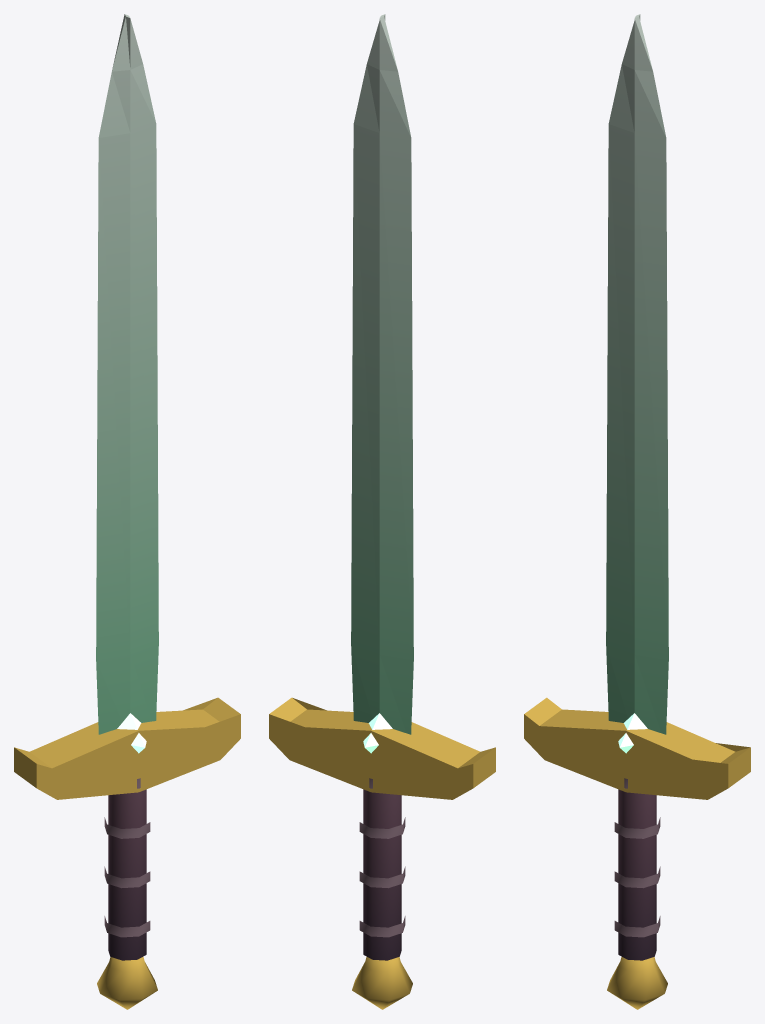
Rendered from sword_verdant.glb.
3 renders of one model, left to right at view 1: azimuth 30°, elevation 25°; view 2: azimuth 150°, elevation 25°; view 3: azimuth 330°, elevation 25°, orthographic.
Visible parts, largest first — view 1: sword_verdant; view 2: sword_verdant; view 3: sword_verdant.
Boxes of the visible parts, x1,y1,x2,y2 form: sword_verdant: (14,14,240,1009); sword_verdant: (269,14,495,1009); sword_verdant: (524,14,750,1009).
Size of the model in its own units: 0.26 by 1.21 by 0.0784.
